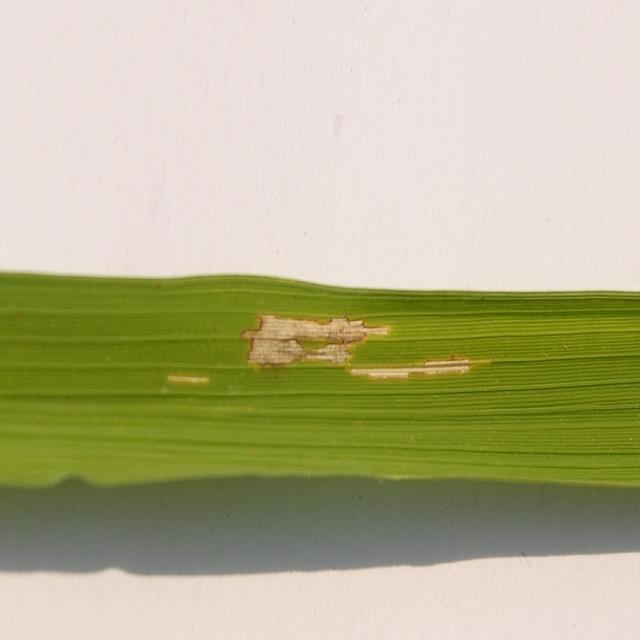Unhealthy: (241, 311, 390, 371), (349, 358, 491, 381), (169, 374, 210, 384)
